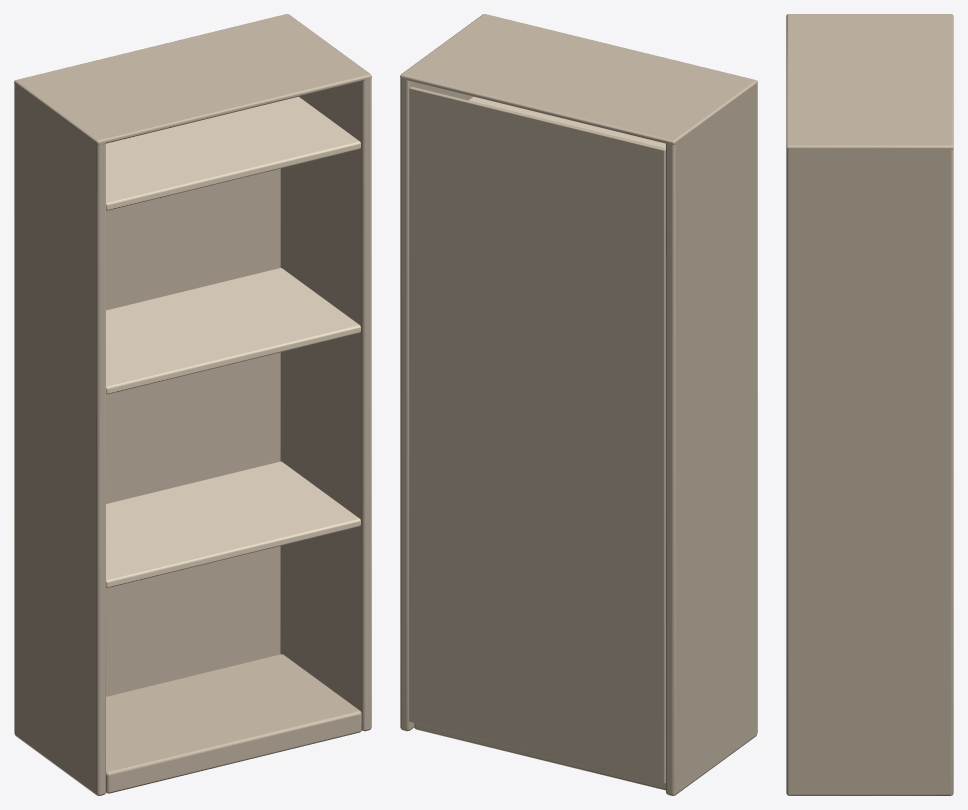
The model's file is shelfUnit.glb.
3 renders of one model, left to right at view 1: azimuth 30°, elevation 25°; view 2: azimuth 150°, elevation 25°; view 3: azimuth 270°, elevation 25°, orthographic.
Visible parts, largest first — view 1: shelfUnit; view 2: shelfUnit; view 3: shelfUnit.
Boxes of the visible parts, x1=… form: shelfUnit: x1=14, y1=14, x2=371, y2=795; shelfUnit: x1=400, y1=14, x2=757, y2=795; shelfUnit: x1=786, y1=14, x2=953, y2=795.
Size of the model in its own units: 0.79 by 1.8 by 0.42.
